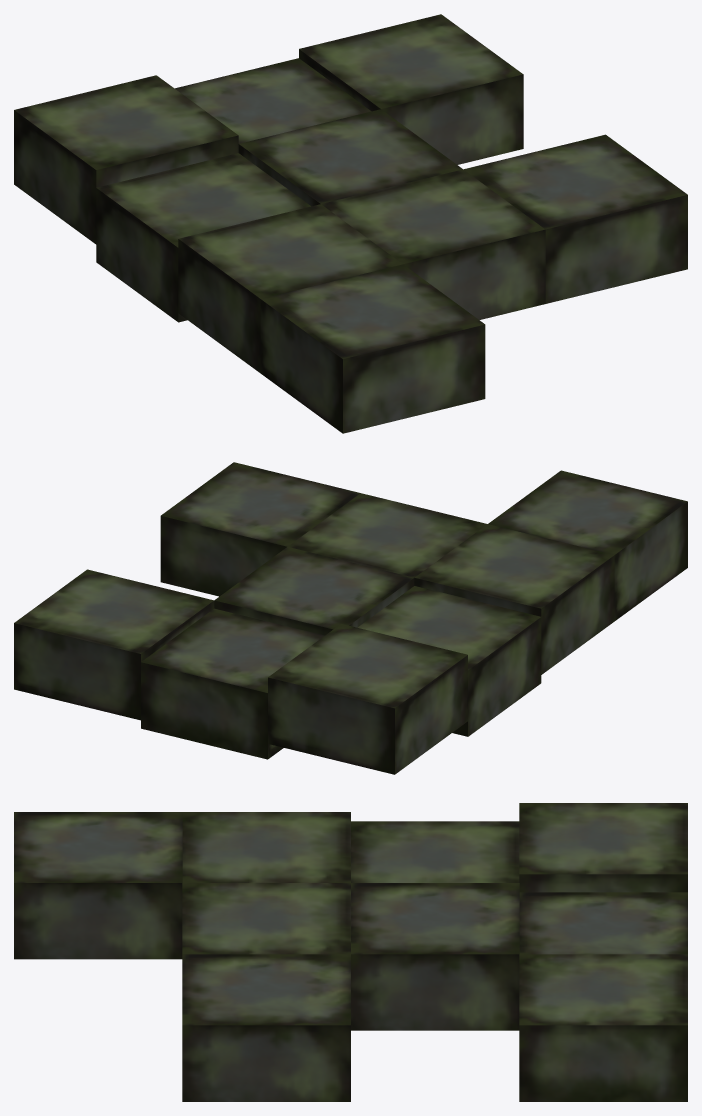
Rendered from bridge-end-03.fbx.
3 renders of one model, top to bottom at view 1: azimuth 30°, elevation 25°; view 2: azimuth 150°, elevation 25°; view 3: azimuth 270°, elevation 25°, orthographic. The views are drawn at different scales.
Visible parts, largest first — view 1: bridge_end_03; view 2: bridge_end_03; view 3: bridge_end_03.
Part boxes in pixels (left/top/right/bottom): bridge_end_03: left=14, top=14, right=687, bottom=433; bridge_end_03: left=14, top=462, right=687, bottom=774; bridge_end_03: left=14, top=803, right=687, bottom=1101.
Size of the model in its own units: 300 by 61.84 by 400.
